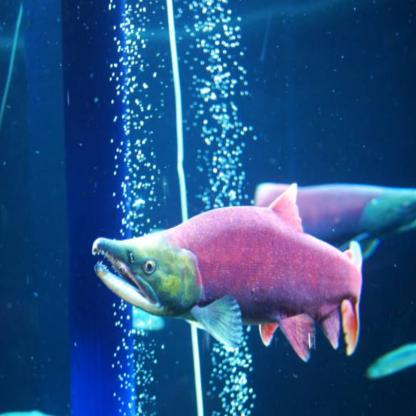sockeye: (92, 198, 356, 354)
